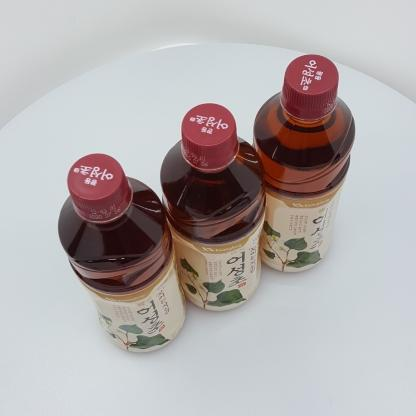--------500ml: (57, 154, 189, 353), (249, 54, 356, 273), (157, 103, 267, 311)
